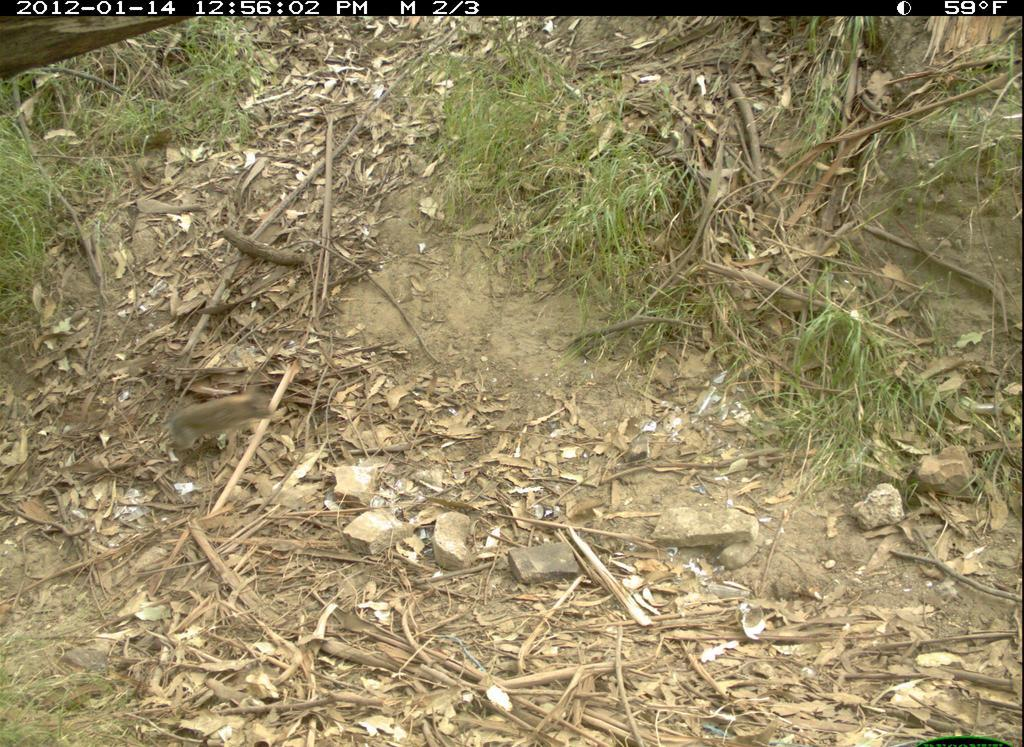rabbit: (168, 379, 292, 452)
